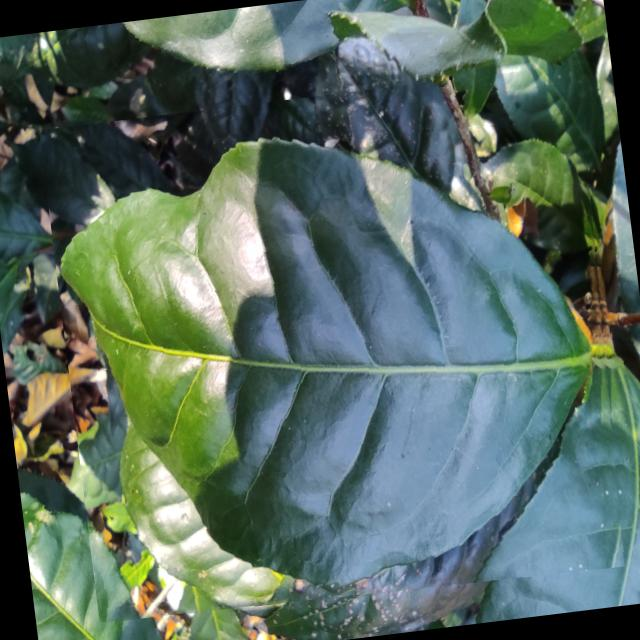Category D(7+ days, Not for Tea): (38, 64, 638, 630)
